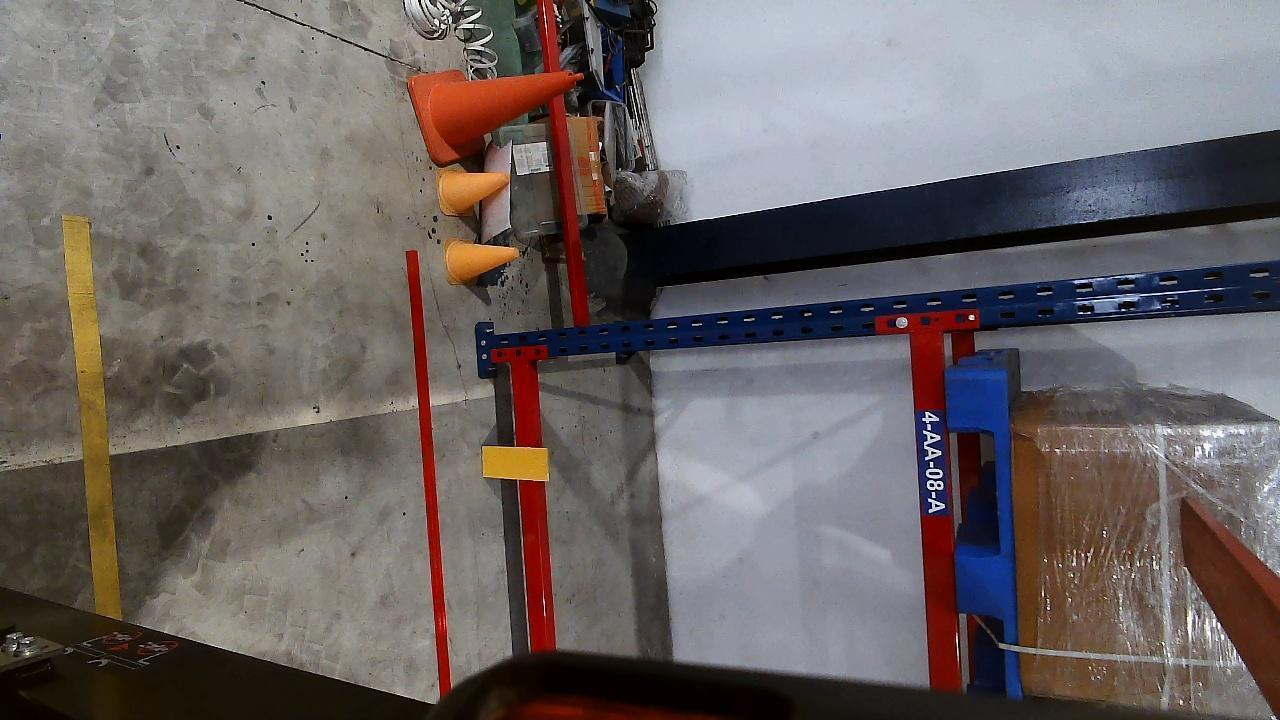red_line: (409, 250, 452, 691)
yellow_line: (58, 215, 119, 619)
